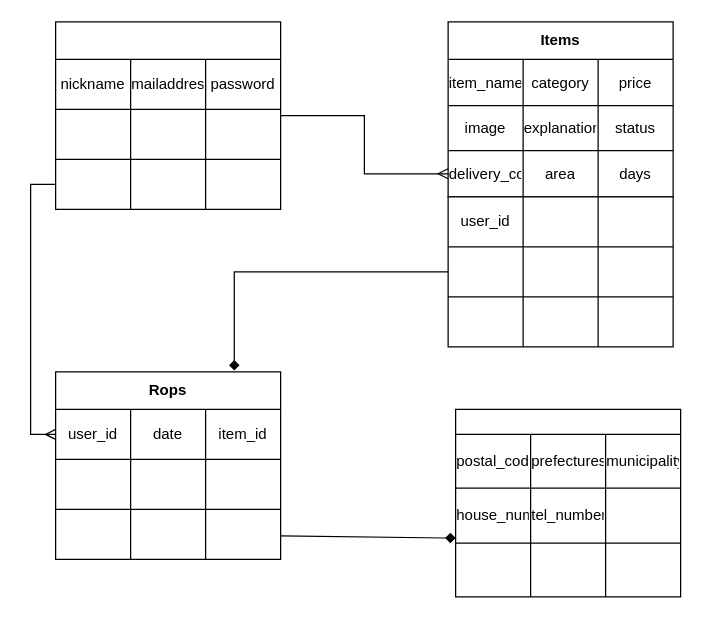
The diagram is 705 pixels wide and 619 high, and some of its shapes have lost their labels. Each missing label, with the box of its shape:
Addresses: (454, 408, 681, 597)
Users: (54, 21, 281, 209)
